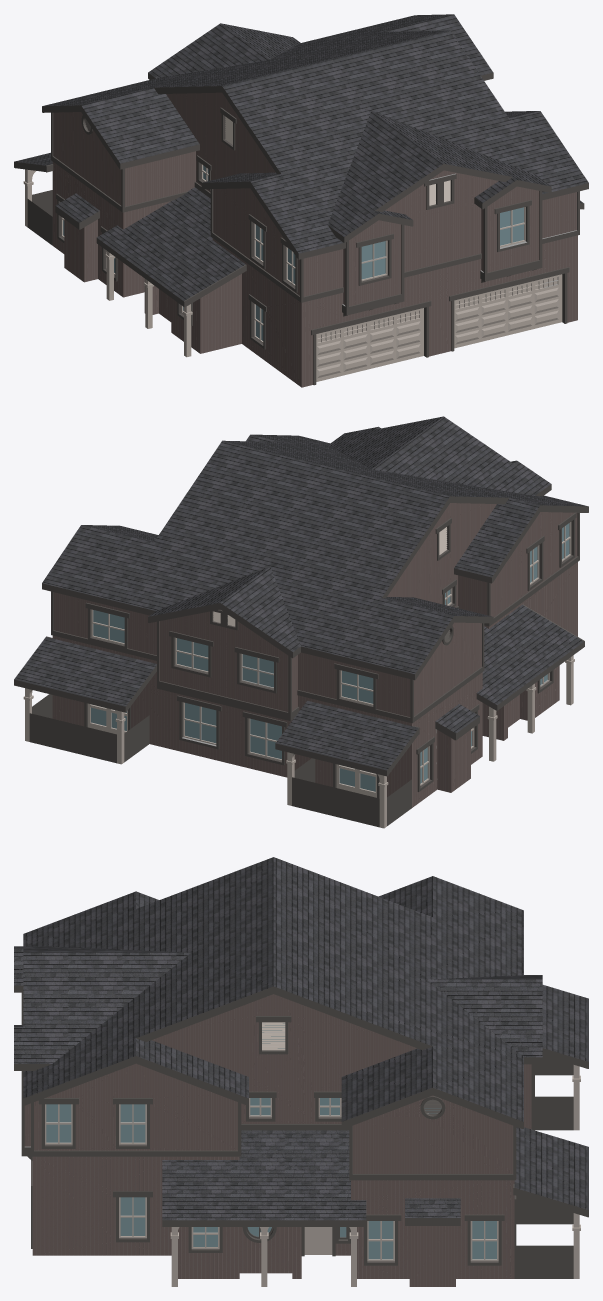
File: LodgeAtTheFalls_Final.fbx
3 renders of one model, top to bottom at view 1: azimuth 30°, elevation 25°; view 2: azimuth 150°, elevation 25°; view 3: azimuth 270°, elevation 25°, orthographic. The views are drawn at different scales.
Parts seen in each view (by area): view 1: LodgeAtTheFalls; view 2: LodgeAtTheFalls; view 3: LodgeAtTheFalls.
Part boxes in pixels (bbox=[...]): LodgeAtTheFalls: bbox=[14, 14, 588, 387]; LodgeAtTheFalls: bbox=[14, 416, 588, 828]; LodgeAtTheFalls: bbox=[14, 857, 588, 1286].
Size of the model in its own units: 36.71 by 19.24 by 39.24.
Materials: 6 (2 with a texture image).
